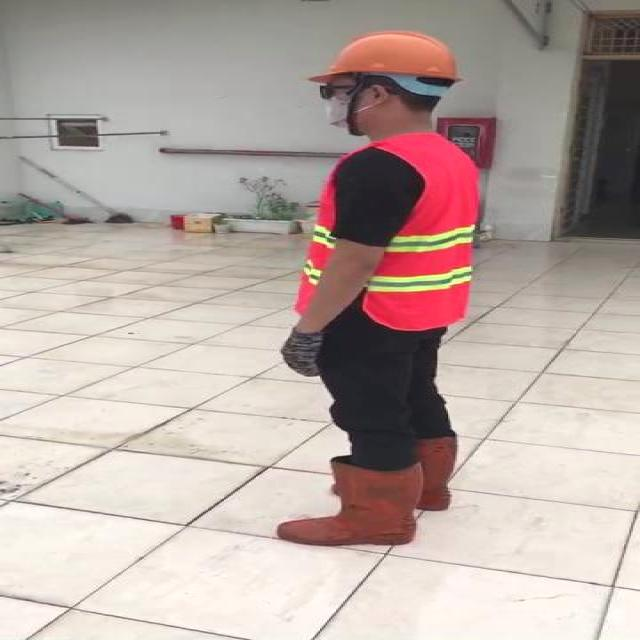boots: (273, 458, 420, 548), (367, 434, 460, 512)
hand_glove: (278, 329, 321, 378)
head_helmet: (294, 27, 468, 88)
person: (249, 22, 498, 556)
vest: (289, 134, 477, 330)
